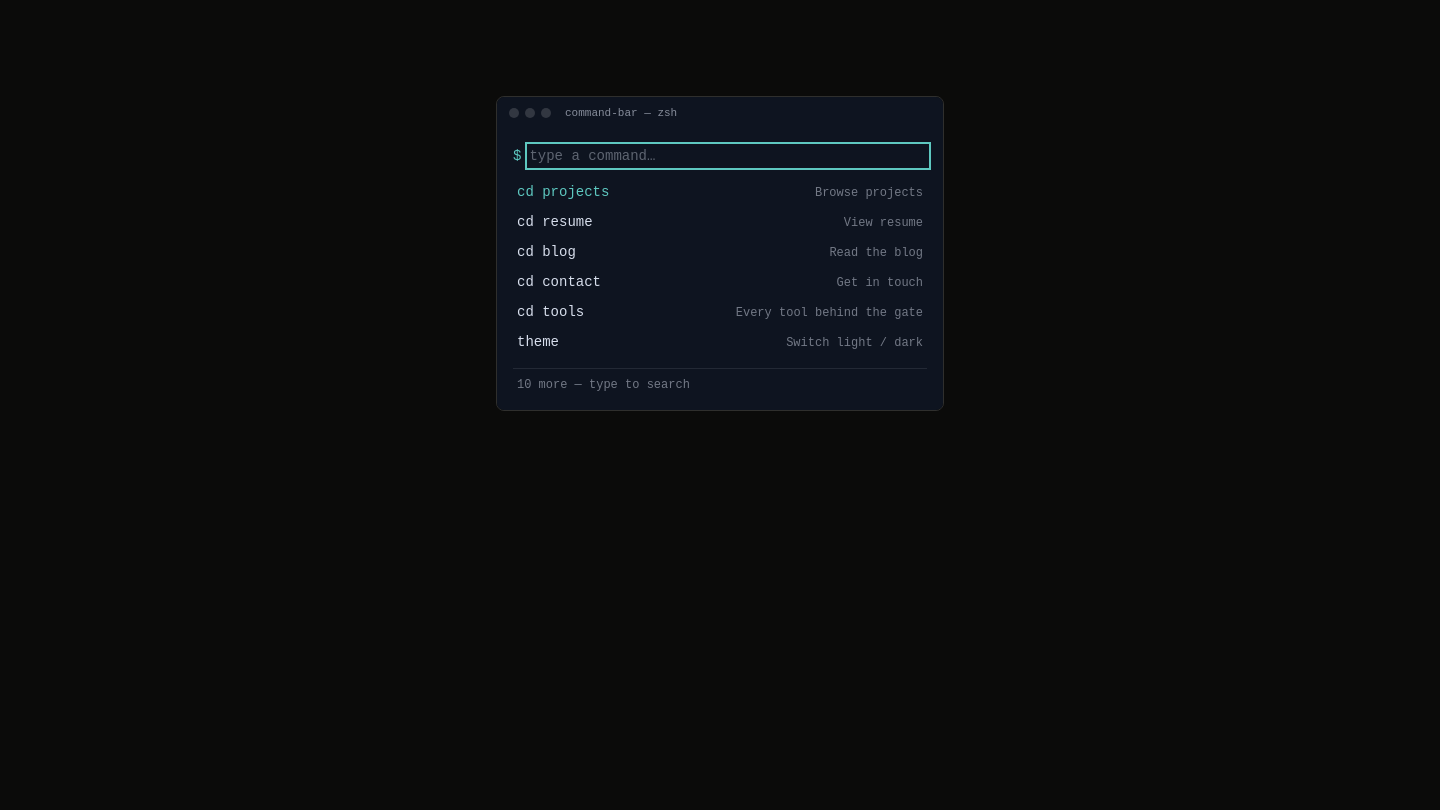
Scenario: CommandBar › searches every command, not just the pinned ones
Type "open" into the field labelled "command".
click(728, 156); type("open")  # box [529,146,927,166]
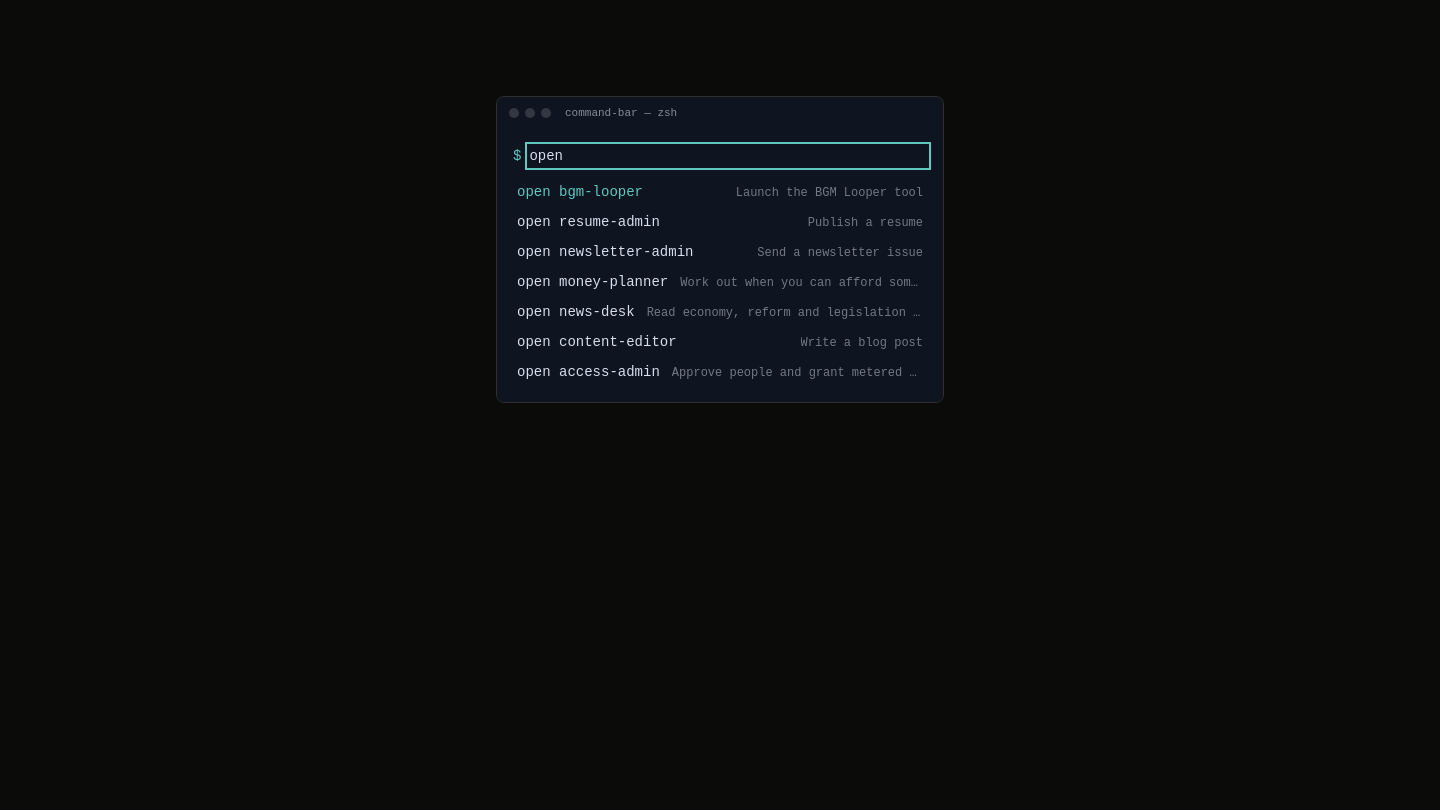
Result: the text "open bgm-looper" is shown at [517,182,643,202]
Result: the text "open content-editor" is shown at [517,332,677,352]
Result: the text "more — type to search" is gone
